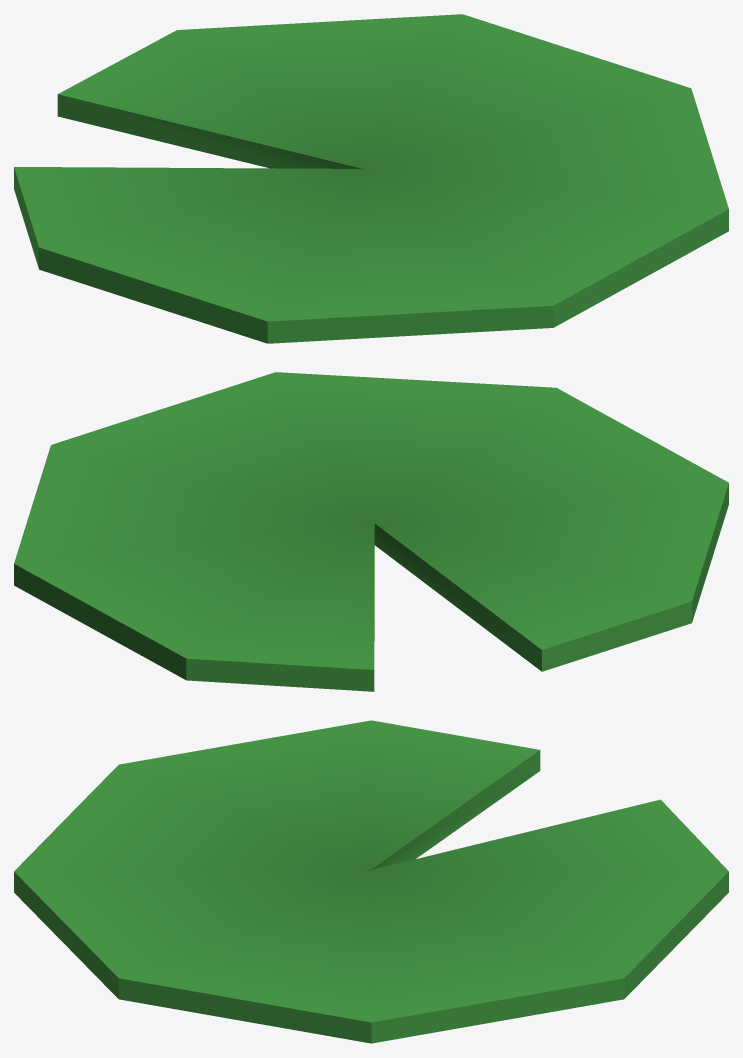
Rendered from LillyPad.fbx.
3 views of the same model, one above another, from view 1: azimuth 30°, elevation 25°; view 2: azimuth 150°, elevation 25°; view 3: azimuth 270°, elevation 25° (orthographic). The views are drawn at different scales.
Parts seen in each view (by area): view 1: Circle.026; view 2: Circle.026; view 3: Circle.026.
Boxes of the visible parts, left/top/right/bottom form: Circle.026: left=14, top=14, right=728, bottom=343; Circle.026: left=14, top=372, right=728, bottom=691; Circle.026: left=14, top=720, right=728, bottom=1043.
Bounding box in the file's own units: 200 × 6.5 × 200.
